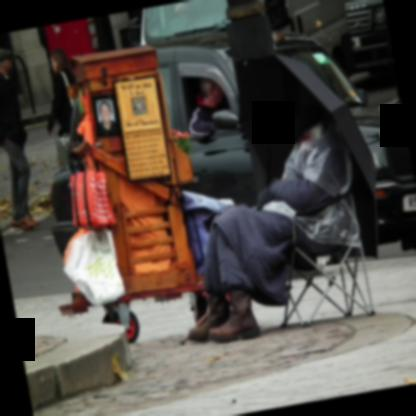handbag: (63, 230, 125, 307), (69, 140, 116, 232)
